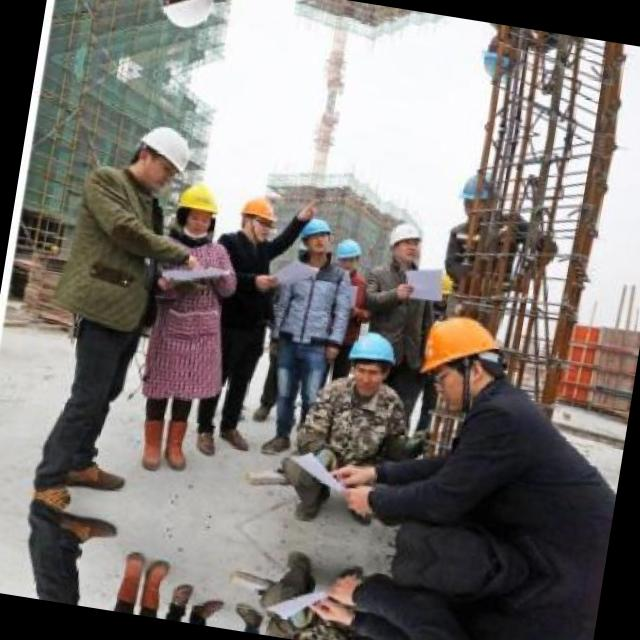helmet: (417, 305, 517, 407), (121, 115, 198, 193), (341, 326, 398, 396), (170, 173, 225, 241), (454, 158, 498, 226), (382, 211, 430, 272), (476, 24, 518, 92), (145, 0, 221, 36), (238, 190, 279, 242), (296, 212, 333, 258), (332, 231, 368, 272)
